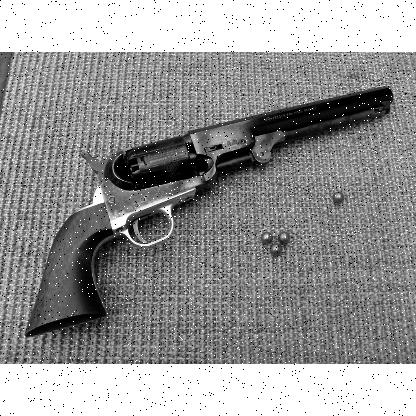gun: (25, 84, 393, 338)
